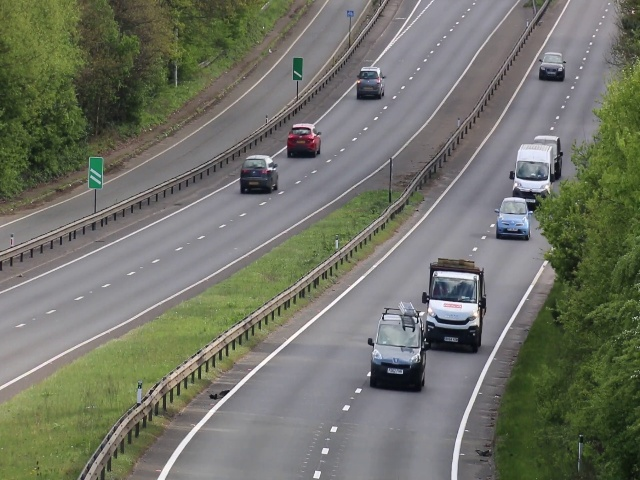car: (424, 266, 483, 351), (371, 316, 423, 392), (495, 197, 529, 239), (513, 153, 550, 191), (240, 156, 278, 192), (286, 123, 322, 158), (355, 65, 384, 99), (538, 51, 565, 81)
